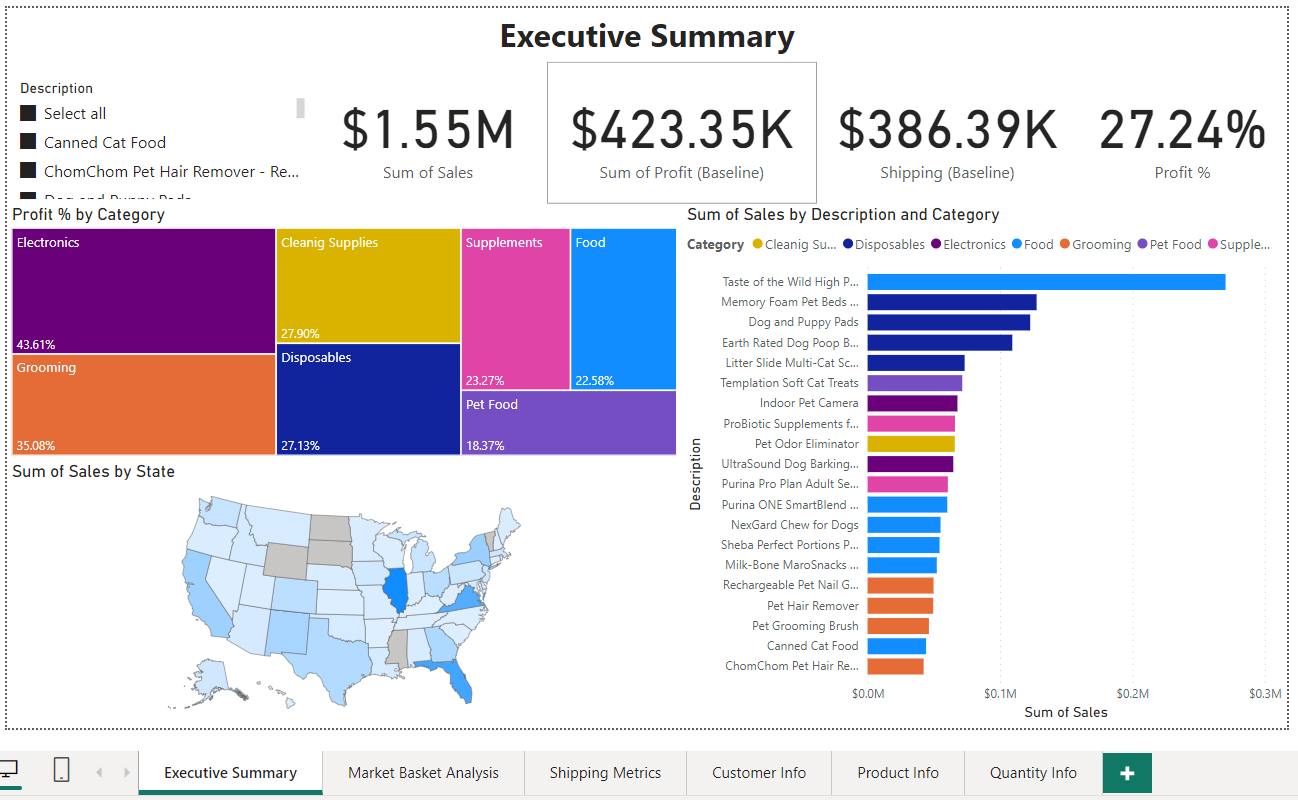

The dashboard page shown, as its layout file describes it:
{"tool":"powerbi","page":{"name":"Executive Summary","canvas":[1280,720],"ordinal":0},"visuals":[{"type":"slicer","fields":{"Values":["Products.Description"]},"box":[0,66.2,302.5,130],"z":0},{"type":"card","fields":{"Values":["Sum(Sales.Sales)"]},"box":[302.5,53.8,237.5,142.5],"z":1000},{"type":"card","fields":{"Values":["Sum(Sales.Profit (Baseline))"]},"box":[540,53.8,270,142.5],"z":2000},{"type":"card","fields":{"Values":["Sales.Shipping (Baseline)"]},"box":[810,53.8,261.2,142.5],"z":3000},{"type":"card","fields":{"Values":["New_Measures.Profit %"]},"box":[1071.2,53.8,208.8,142.5],"z":4000},{"type":"textbox","box":[0,0,1280,53.8],"z":5000},{"type":"treemap","fields":{"Group":["Products.Category","Products.Description"],"Values":["New_Measures.Profit %"]},"box":[0,196.2,675,256.2],"z":6000},{"type":"shapeMap","fields":{"Category":["State_Mapping.State"],"Value":["Sum(Sales.Sales)"]},"box":[0,452.5,675,265],"z":7000},{"type":"barChart","fields":{"Category":["Sales.Description","Products.Category"],"Y":["Sum(Sales.Sales)"],"Series":["Products.Category"]},"box":[675,196.2,605,521.2],"z":8000}]}

Visuals, with their boxes on the page's 1280x720 design canvas (x1, y1, x2, y2). These are canvas units, not pixel positions in the 1298x800 screenshot, which may show the page scaled, cropped or inside an application window:
slicer - Products.Description: {"x1": 0, "y1": 66, "x2": 302, "y2": 196}
card - Sum(Sales.Sales): {"x1": 302, "y1": 54, "x2": 540, "y2": 196}
card - Sum(Sales.Profit (Baseline)): {"x1": 540, "y1": 54, "x2": 810, "y2": 196}
card - Sales.Shipping (Baseline): {"x1": 810, "y1": 54, "x2": 1071, "y2": 196}
card - New_Measures.Profit %: {"x1": 1071, "y1": 54, "x2": 1280, "y2": 196}
textbox: {"x1": 0, "y1": 0, "x2": 1280, "y2": 54}
treemap - Products.Category x Products.Description: {"x1": 0, "y1": 196, "x2": 675, "y2": 452}
shapeMap - State_Mapping.State x Sum(Sales.Sales): {"x1": 0, "y1": 452, "x2": 675, "y2": 718}
barChart - Sales.Description x Products.Category: {"x1": 675, "y1": 196, "x2": 1280, "y2": 717}
